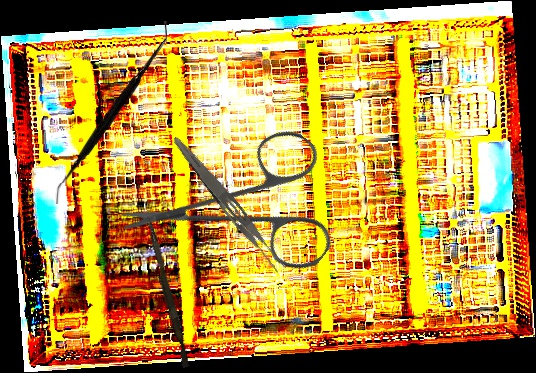Dressing Forceps: (165, 133, 291, 278)
Iris Scissors: (116, 77, 374, 336)
Pusher: (140, 215, 194, 368)
Spatula Surgical: (53, 17, 168, 208)
